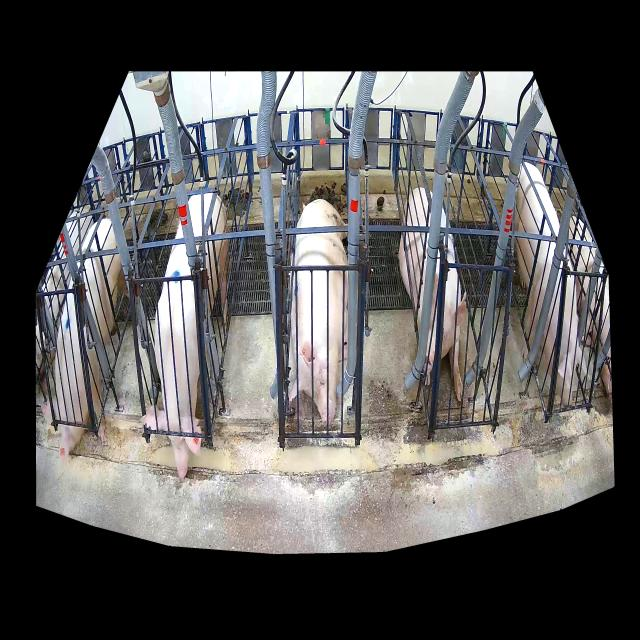pig: (141, 193, 228, 475), (42, 219, 130, 455), (515, 162, 590, 409), (399, 187, 466, 401), (288, 199, 348, 425)
